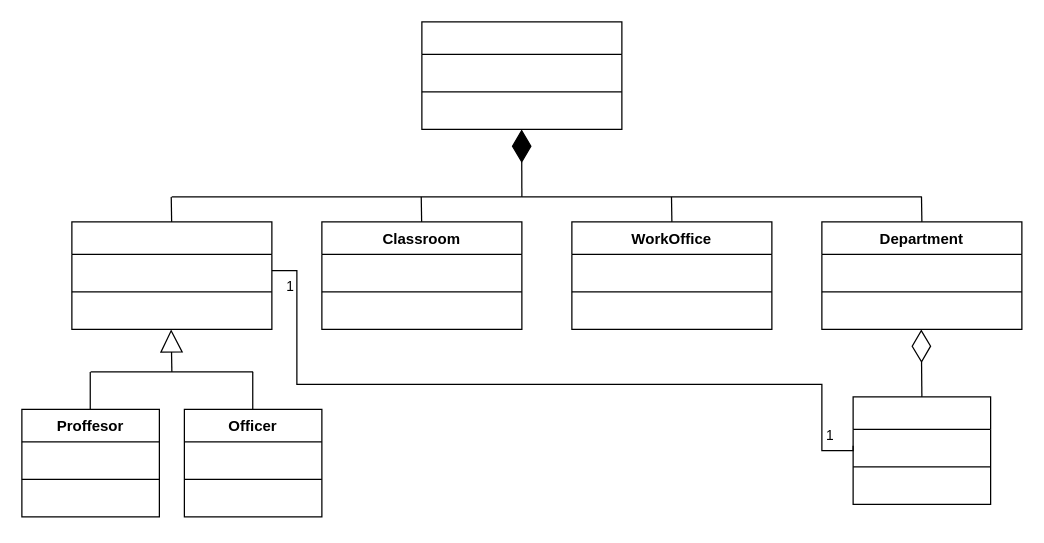
Some shapes in this 1044 by 543 pixel diagram are drawn without their labels. The box of each missing label's shape, as (x1, y1, x2, y2) in pixels:
Employee: (71, 221, 272, 329)
Office: (852, 396, 991, 504)
University: (421, 21, 622, 129)
